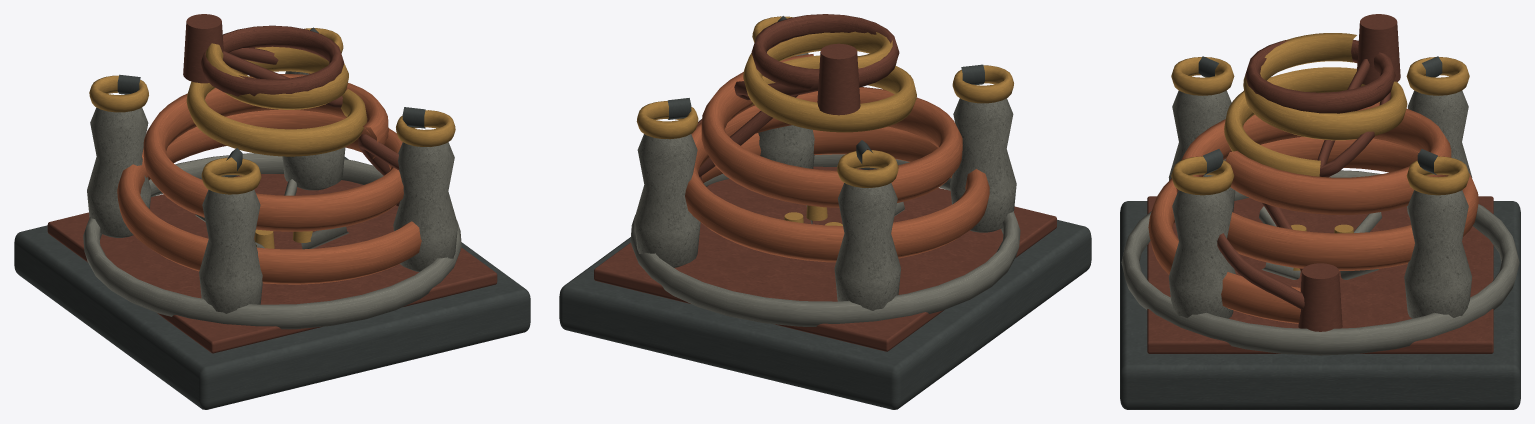
File: arcane_coil.glb
3 views of the same model, side by side, from view 1: azimuth 30°, elevation 25°; view 2: azimuth 150°, elevation 25°; view 3: azimuth 270°, elevation 25° (orthographic). The views are drawn at different scales.
Parts seen in each view (by area): view 1: arcane_coil; view 2: arcane_coil; view 3: arcane_coil.
Part boxes in pixels (<box>): arcane_coil: <box>14,14,530,409</box>; arcane_coil: <box>559,14,1091,409</box>; arcane_coil: <box>1120,14,1520,409</box>.
Bounding box in the file's own units: 1.4 × 1.1 × 1.4.
1 material, 1 textured.
